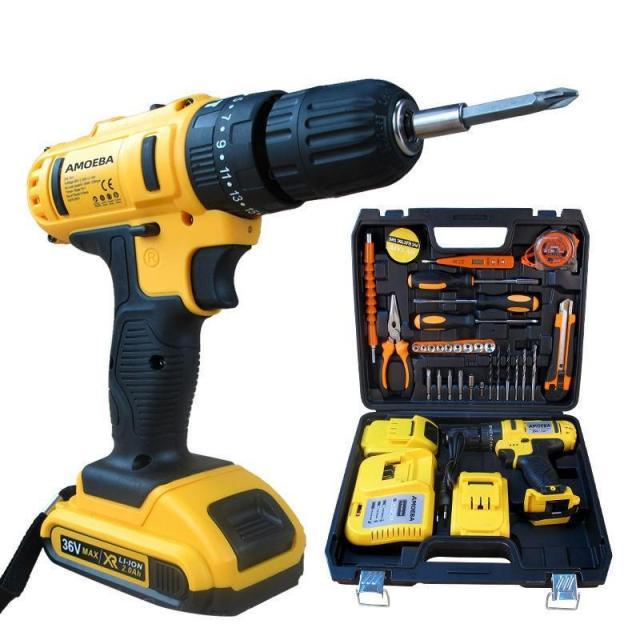drill: (27, 78, 580, 617), (445, 419, 582, 526), (412, 86, 580, 138)
